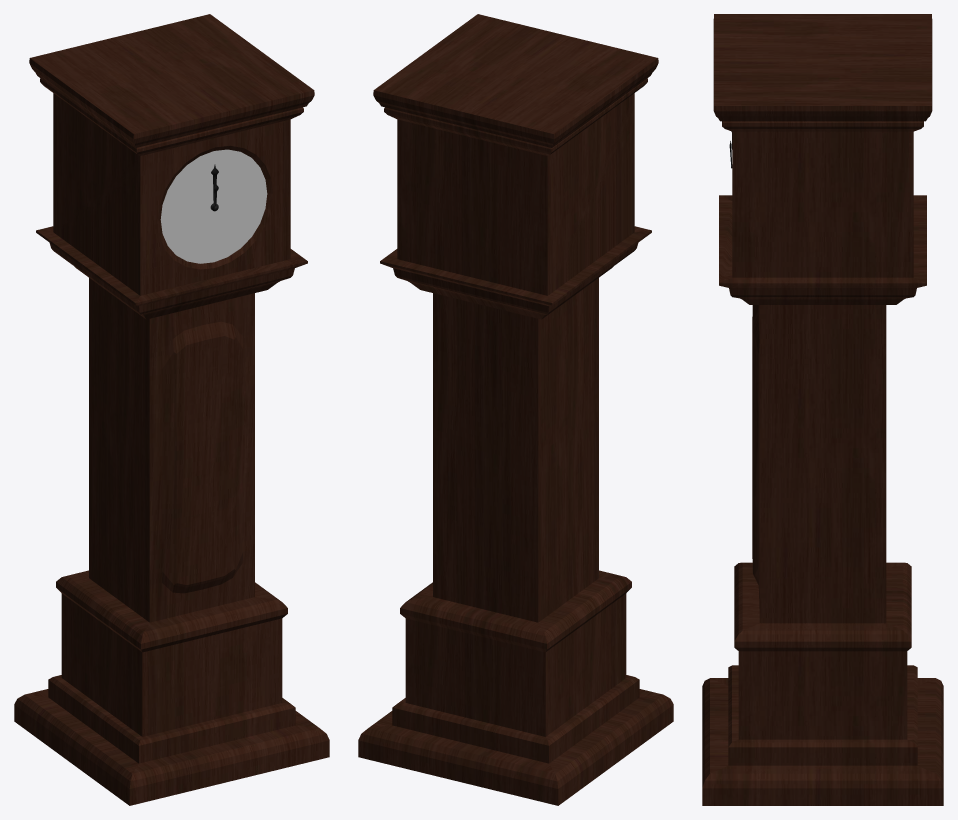
File: Clock.fbx
The picture shows the model from 3 angles, left to right: view 1: azimuth 30°, elevation 25°; view 2: azimuth 150°, elevation 25°; view 3: azimuth 270°, elevation 25°; orthographic projection. The views are drawn at different scales.
Parts seen in each view (by area): view 1: Clock; view 2: Clock; view 3: Clock.
Part boxes in pixels (bbox=[...]): Clock: bbox=[14, 14, 329, 805]; Clock: bbox=[358, 14, 673, 805]; Clock: bbox=[702, 14, 943, 805].
Bounding box in the file's own units: 60 × 191 × 60.
